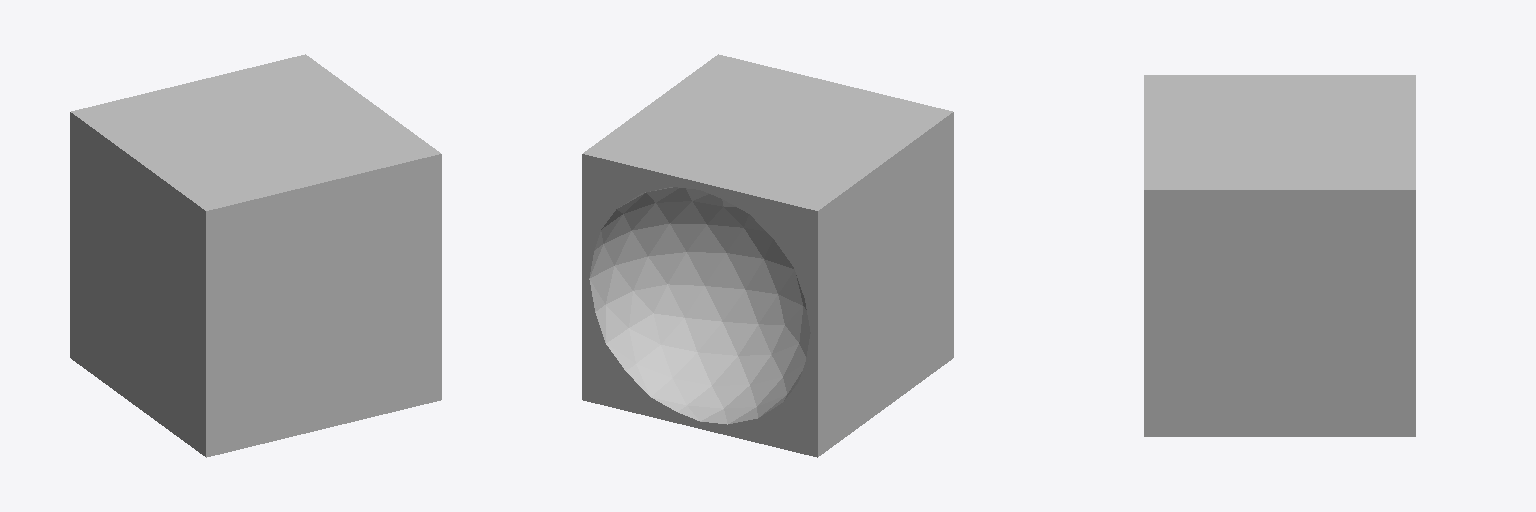
Rendered from cubeicosadiff.obj.
3 views of the same model, side by side, from view 1: azimuth 30°, elevation 25°; view 2: azimuth 150°, elevation 25°; view 3: azimuth 270°, elevation 25° (orthographic).
Visible parts, largest first — view 1: Cube_Cube.001; view 2: Cube_Cube.001; view 3: Cube_Cube.001.
Boxes of the visible parts, box(x1,y1,x2,y2) form: Cube_Cube.001: box(70, 54, 441, 457); Cube_Cube.001: box(582, 54, 953, 457); Cube_Cube.001: box(1144, 75, 1415, 436).
Bounding box in the file's own units: 2 × 2 × 2.